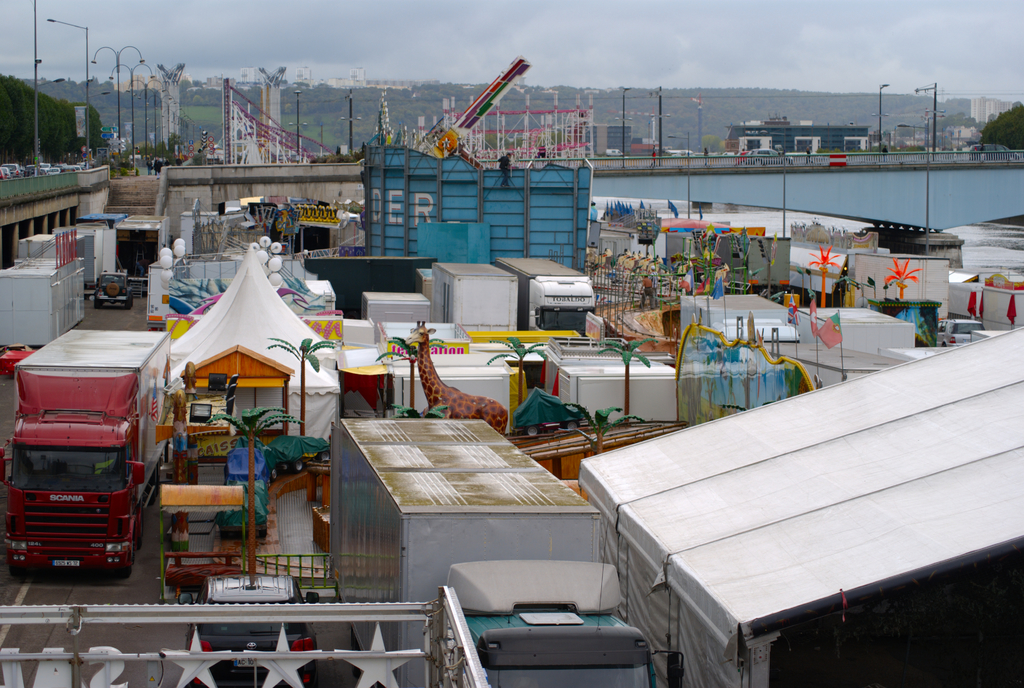Car: (187, 572, 317, 684), (0, 161, 94, 179), (91, 270, 133, 307), (936, 317, 984, 346), (965, 140, 1011, 157), (743, 149, 778, 163), (603, 147, 624, 156)
